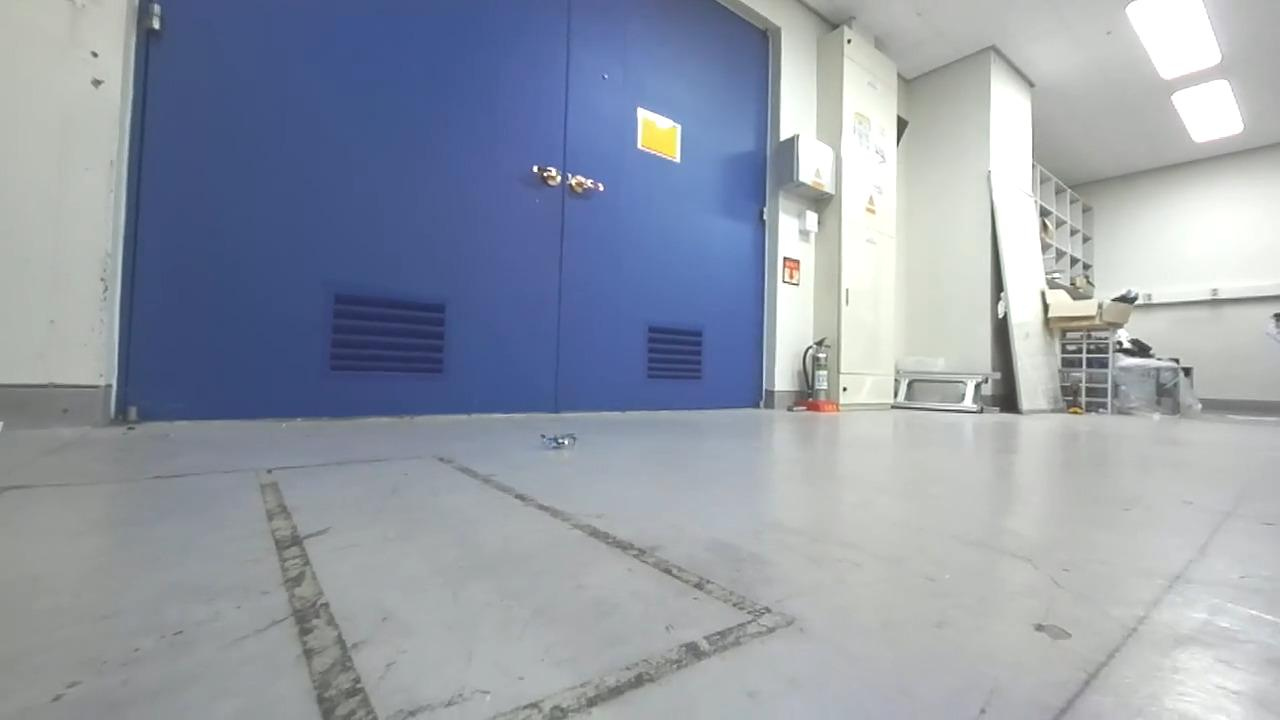crazyflie: (531, 426, 586, 456)
